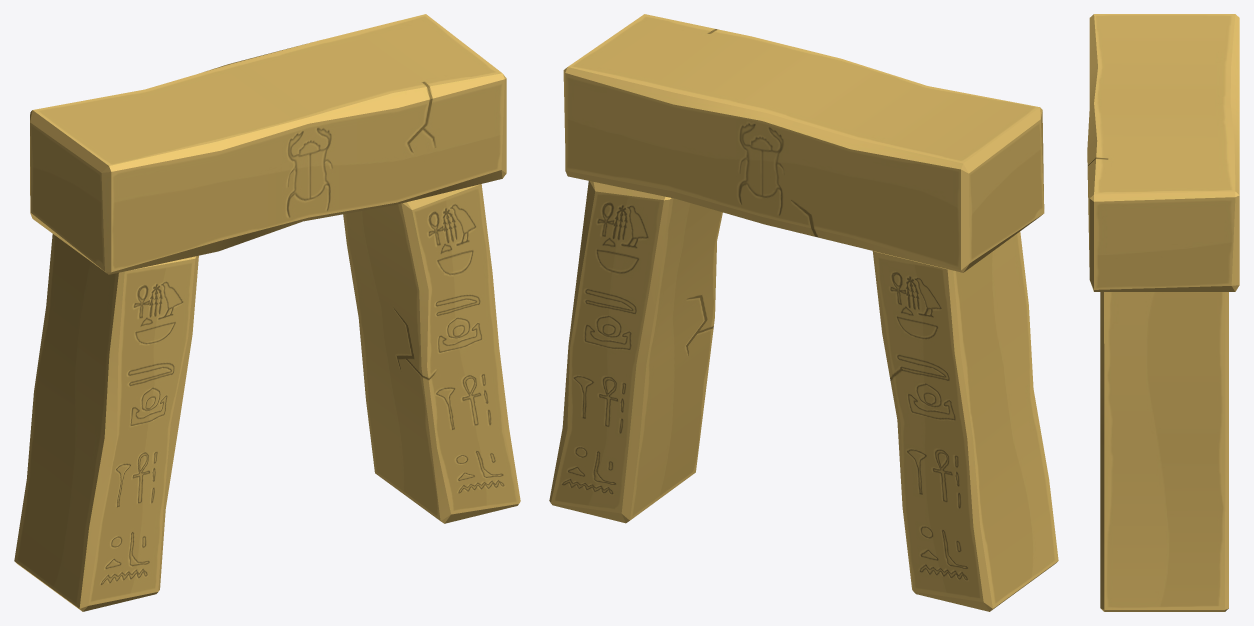
File: Door.FBX
3 views of the same model, side by side, from view 1: azimuth 30°, elevation 25°; view 2: azimuth 150°, elevation 25°; view 3: azimuth 270°, elevation 25° (orthographic). The views are drawn at different scales.
Parts seen in each view (by area): view 1: pCube14; view 2: pCube14; view 3: pCube14.
Part boxes in pixels (<box>): pCube14: <box>14,14,520,611</box>; pCube14: <box>549,14,1058,611</box>; pCube14: <box>1087,14,1239,611</box>.
Size of the model in its own units: 549 by 532 by 178.
